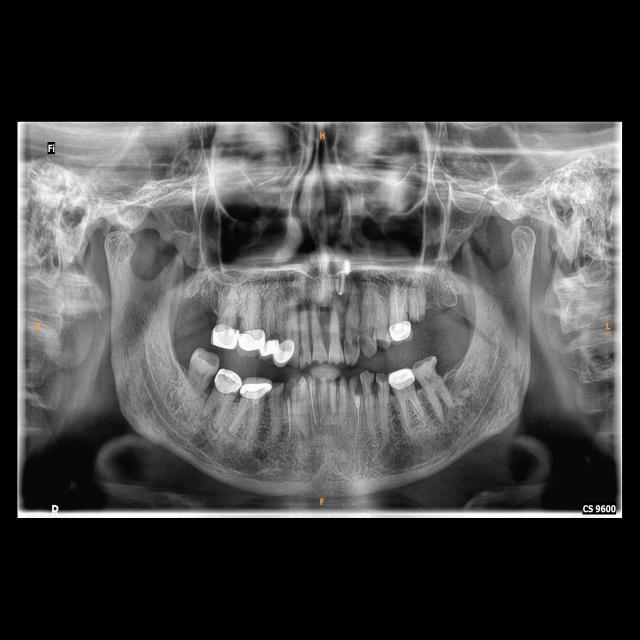dentin-curugu: (235, 313, 249, 335), (350, 327, 362, 351), (351, 378, 363, 398), (285, 379, 293, 402), (378, 373, 389, 385)
kanal-tedavisi: (392, 288, 405, 320), (309, 383, 318, 423), (285, 402, 293, 436), (354, 398, 362, 424)
kaplama: (209, 324, 239, 351), (211, 370, 240, 394), (242, 378, 271, 398), (388, 370, 417, 388), (240, 332, 264, 352), (273, 341, 293, 365), (390, 321, 412, 340), (260, 335, 278, 355)
